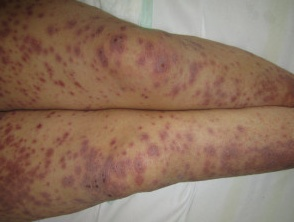SJS-TEN: (0, 0, 294, 115), (0, 109, 294, 222)
